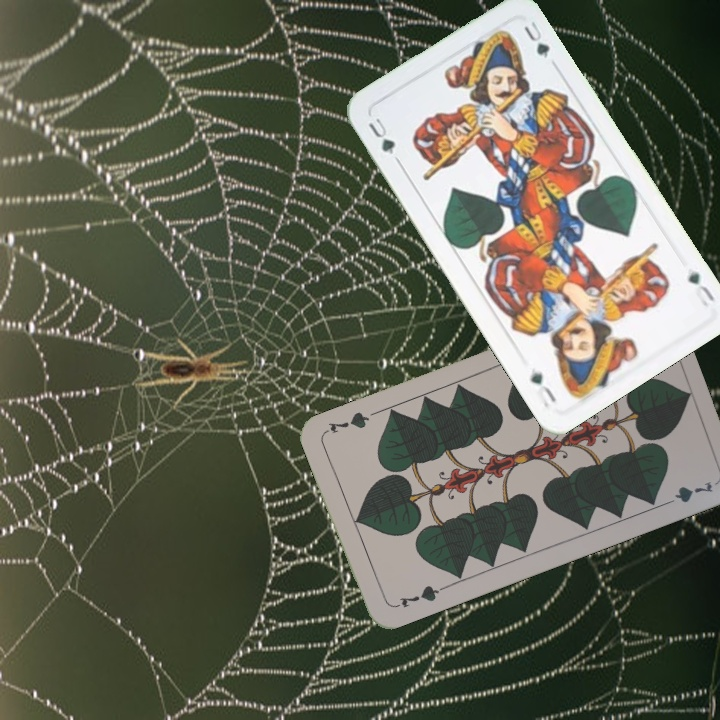G7: (389, 581, 446, 611)
GU: (364, 113, 398, 157), (684, 267, 717, 310)
